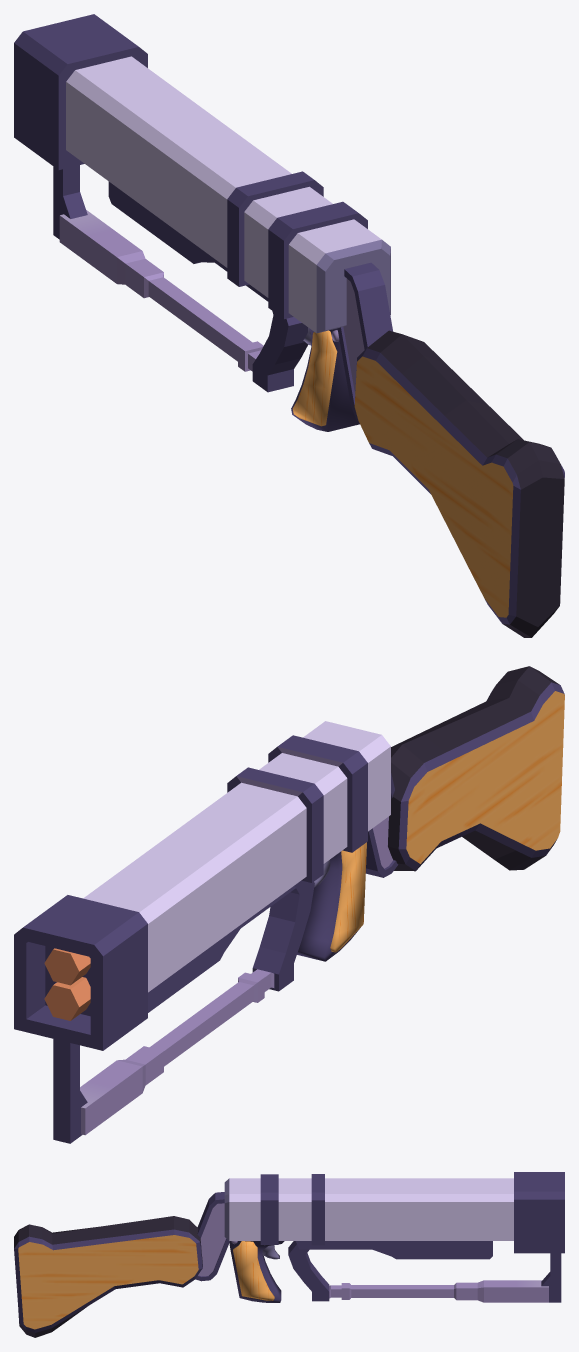
Rendered from laser_gan.fbx.
The picture shows the model from 3 angles, top to bottom: view 1: azimuth 30°, elevation 25°; view 2: azimuth 150°, elevation 25°; view 3: azimuth 270°, elevation 25°; orthographic projection. The views are drawn at different scales.
Visible parts, largest first — view 1: laser_gan; view 2: laser_gan; view 3: laser_gan.
Boxes of the visible parts, box(x1,y1,x2,y2) form: laser_gan: box(14, 14, 564, 637); laser_gan: box(14, 666, 564, 1143); laser_gan: box(14, 1172, 564, 1337).
Bounding box in the file's own units: 0.1088 × 0.32 × 1.02.
